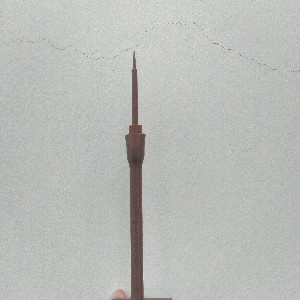solder: (124, 49, 147, 300)
